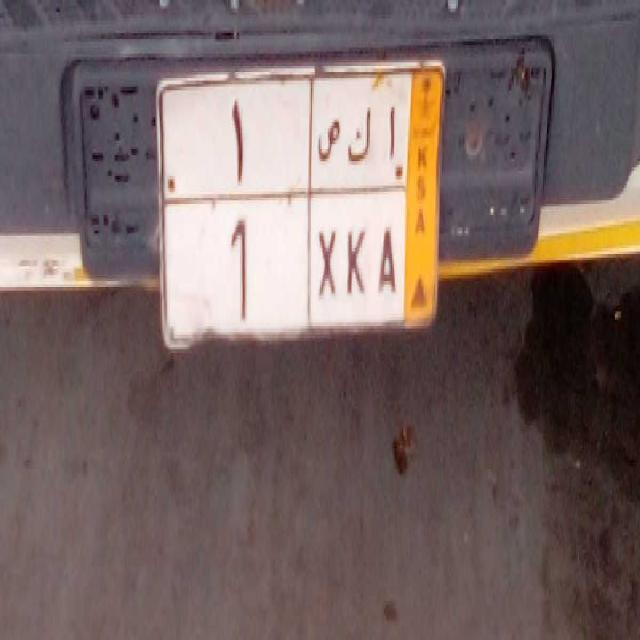license_plate: (164, 189, 404, 326)
